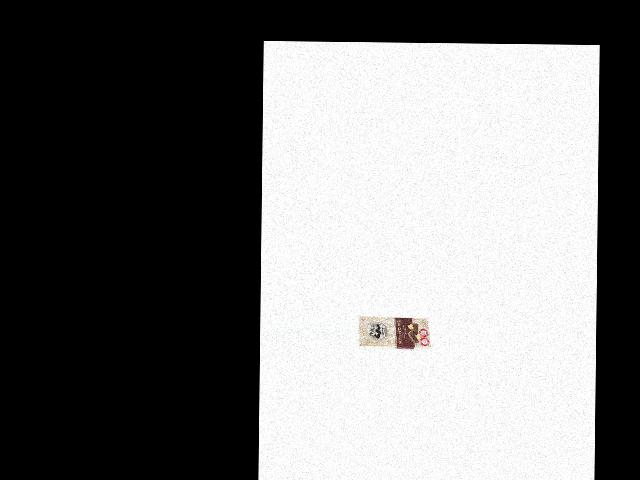chocolate: (358, 315, 432, 355)
